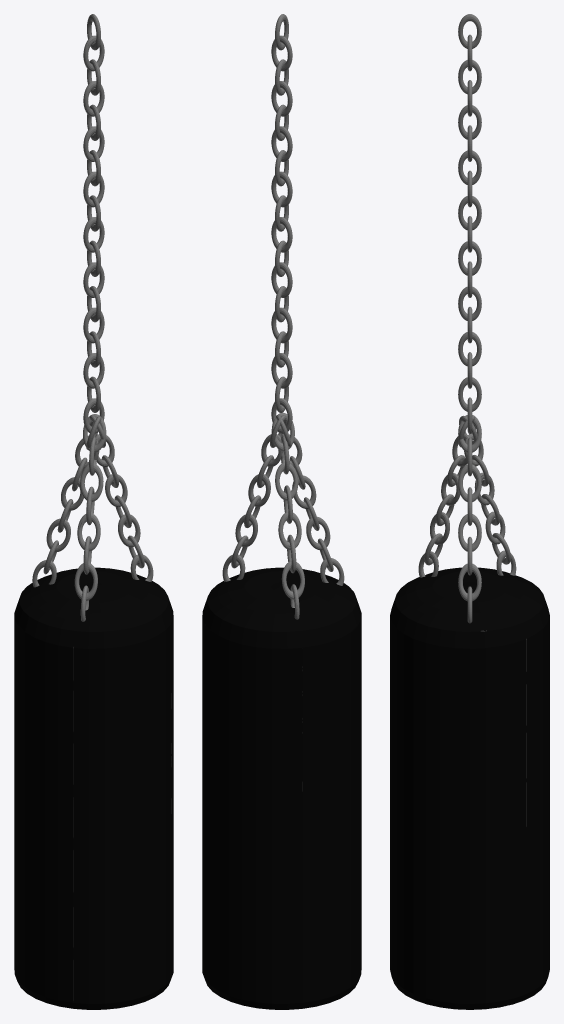
The model's file is Punching Bag.fbx.
3 renders of one model, left to right at view 1: azimuth 30°, elevation 25°; view 2: azimuth 150°, elevation 25°; view 3: azimuth 270°, elevation 25°, orthographic.
Visible parts, largest first — view 1: Cylinder; view 2: Cylinder; view 3: Cylinder.
Part boxes in pixels (<box>): Cylinder: <box>14,14,173,1009</box>; Cylinder: <box>202,14,361,1009</box>; Cylinder: <box>390,14,549,1009</box>.
Size of the model in its own units: 200 by 1342 by 200.
